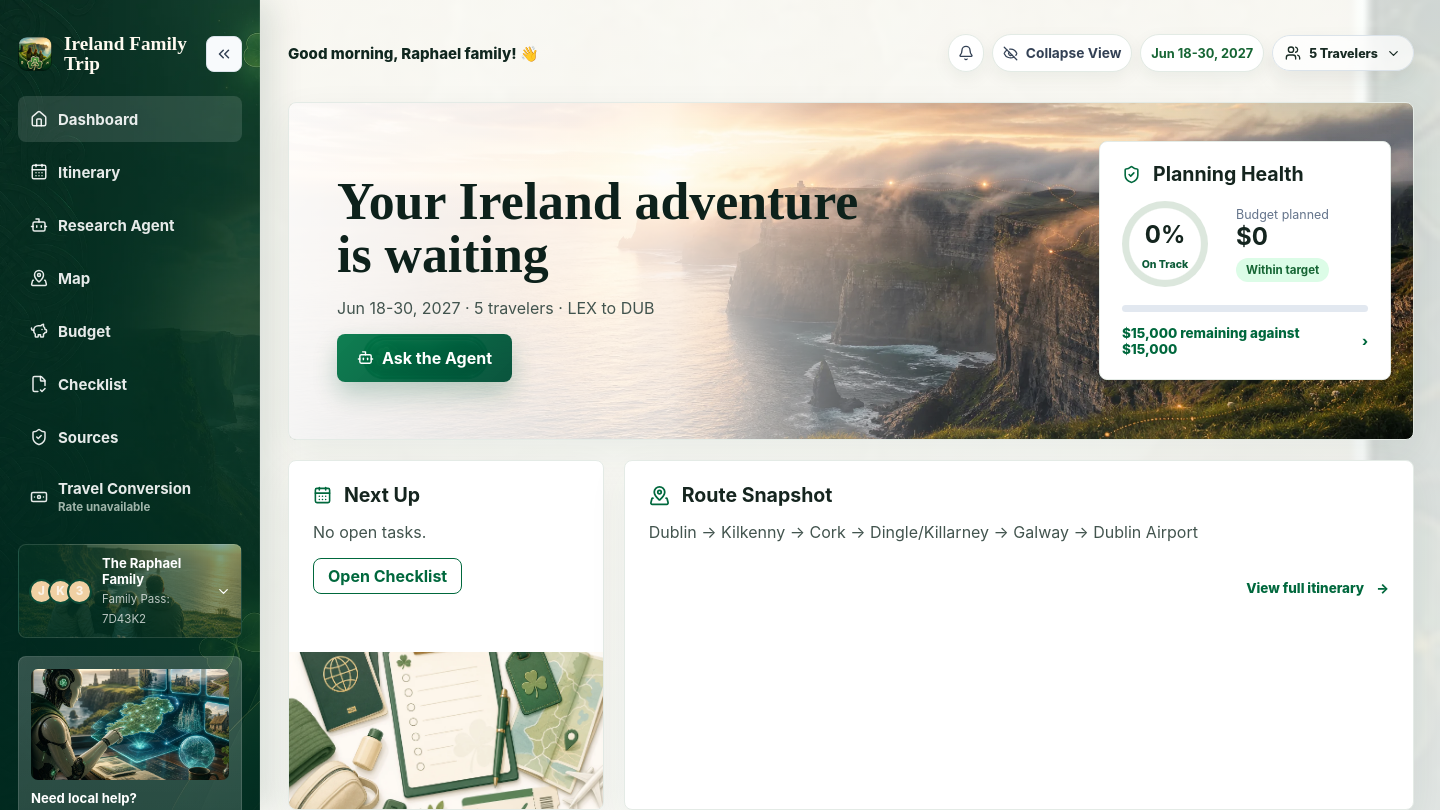
Test: Ireland trip app › collapses and expands the desktop navigation while keeping icon-only navigation available
Check: the text "Ireland Family Trip" is shown, box x1=64 y1=34 x2=192 y2=74
Check: the text "The Raphael Family" is shown, box x1=102 y1=555 x2=181 y2=587
Click the button named "Collapse navigation".
click(224, 54)  # box x1=206 y1=36 x2=242 y2=72
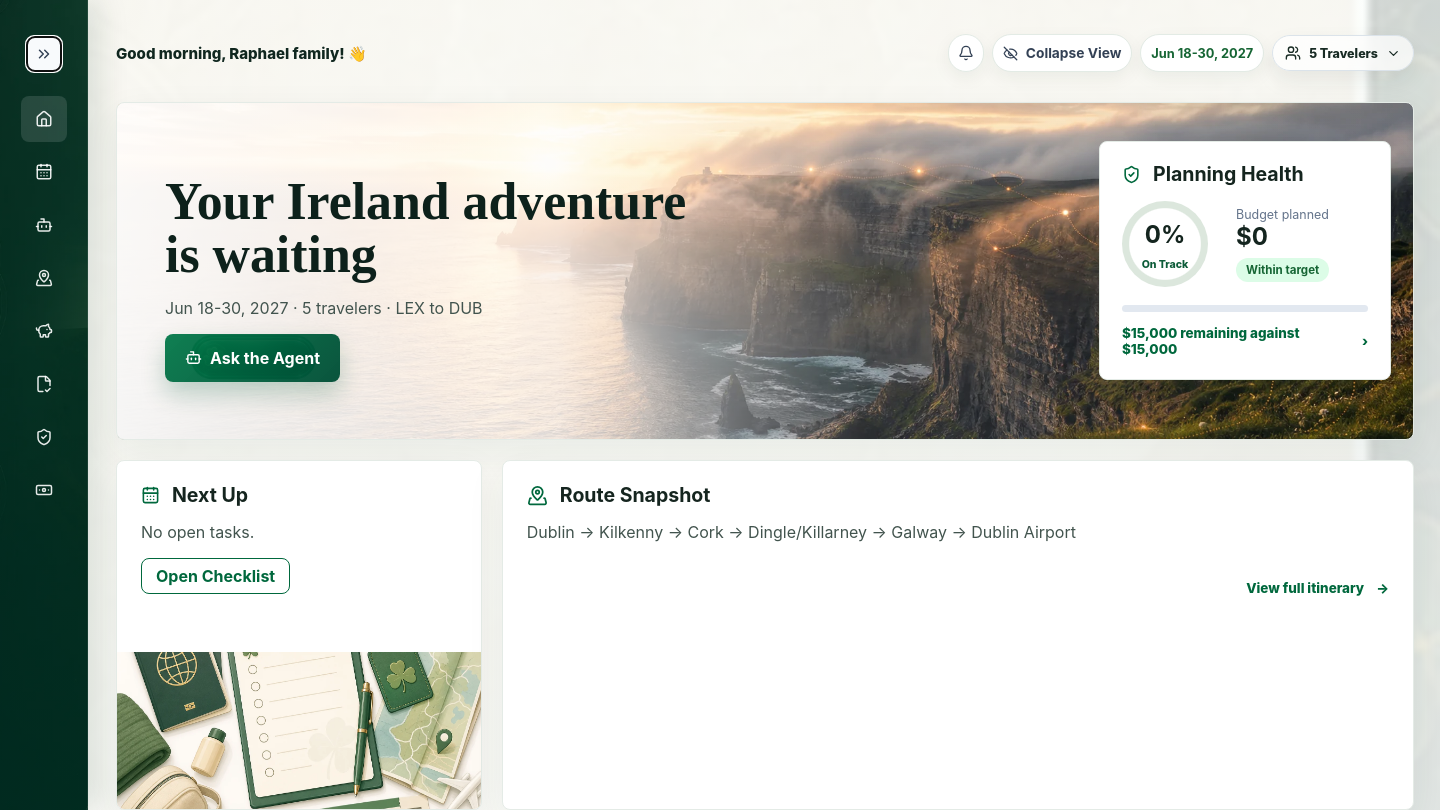
Check: the button named "Itinerary" is shown, box x1=21 y1=149 x2=67 y2=195
Check: the text "The Raphael Family" is gone
Check: the text "Need local help?" is gone
Click the button named "Expand navigation".
click(44, 54)  # box x1=26 y1=36 x2=62 y2=72
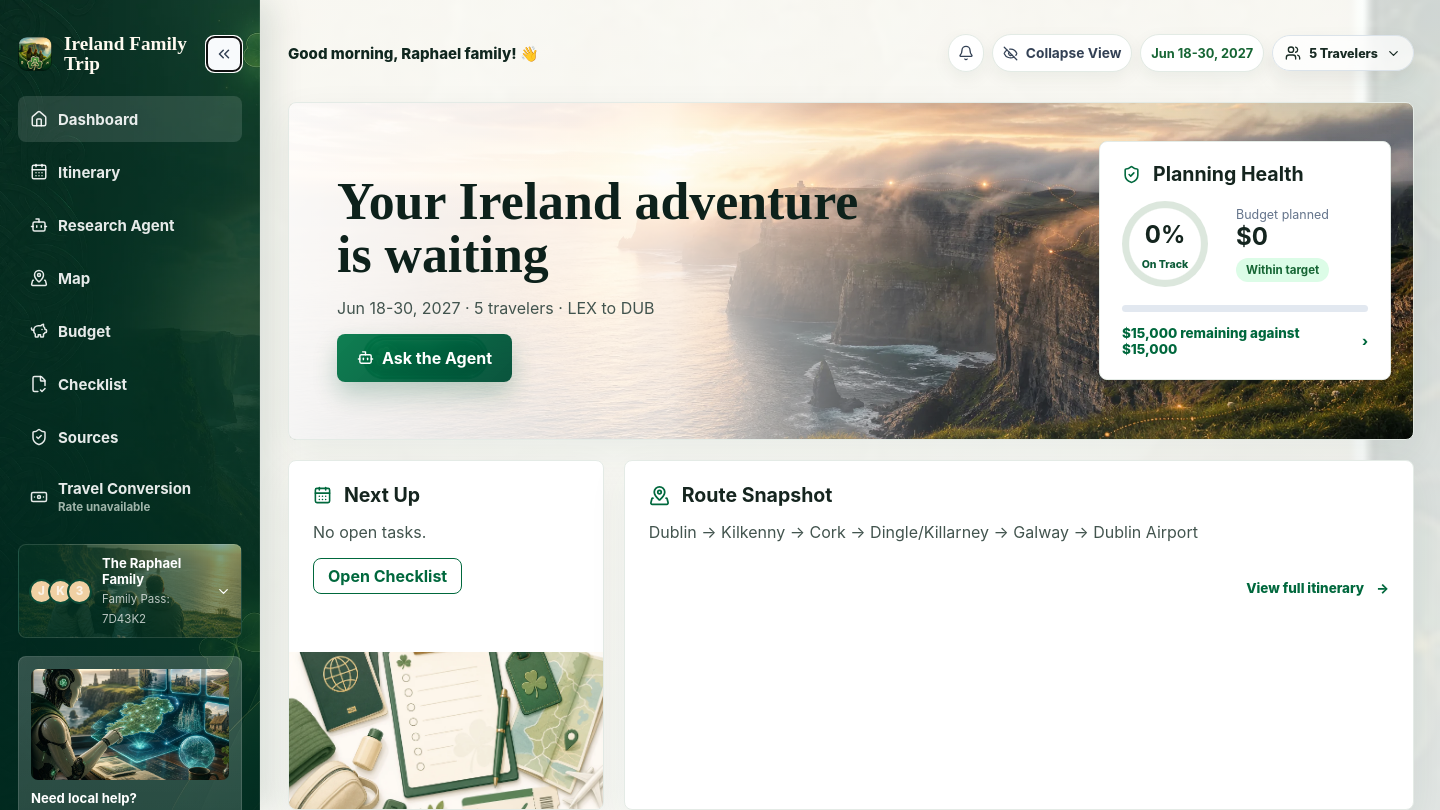
Check: the text "The Raphael Family" is shown, box x1=102 y1=555 x2=181 y2=587
Check: the text "Need local help?" is shown, box x1=31 y1=790 x2=137 y2=806
